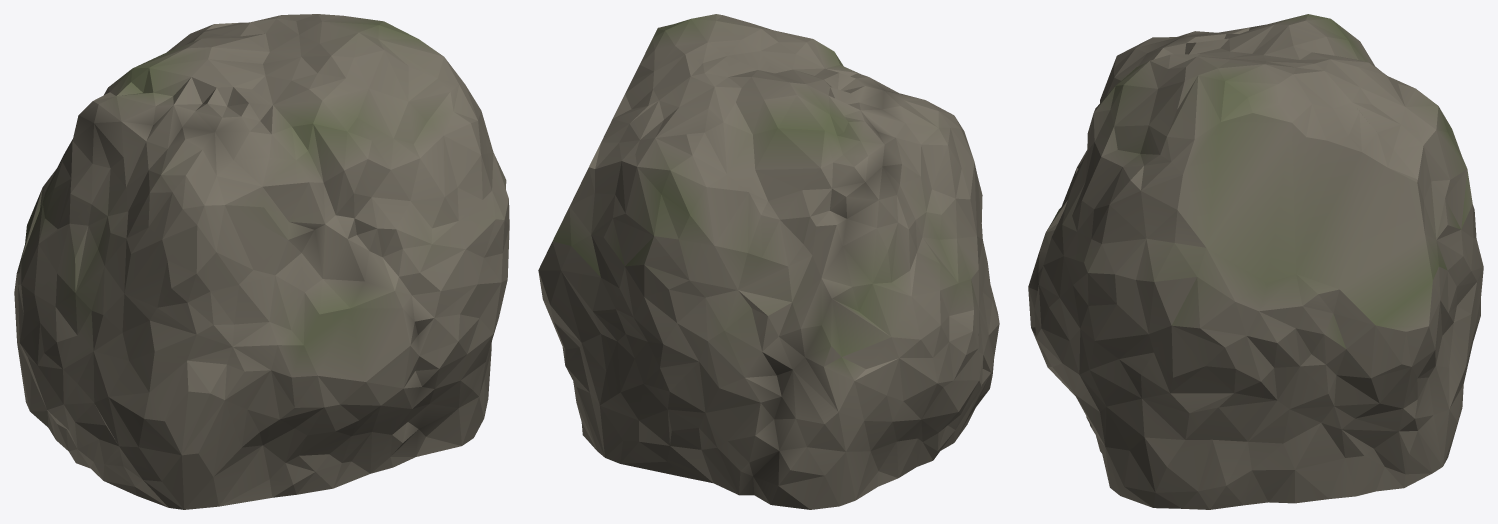
The model's file is stone_B.glb.
3 renders of one model, left to right at view 1: azimuth 30°, elevation 25°; view 2: azimuth 150°, elevation 25°; view 3: azimuth 270°, elevation 25°, orthographic. The views are drawn at different scales.
Parts seen in each view (by area): view 1: stone_B; view 2: stone_B; view 3: stone_B.
Boxes of the visible parts, bbox=[...] form: stone_B: bbox=[14, 14, 509, 509]; stone_B: bbox=[538, 14, 999, 509]; stone_B: bbox=[1028, 14, 1483, 509].
Bounding box in the file's own units: 0.2704 × 0.2393 × 0.2505.
